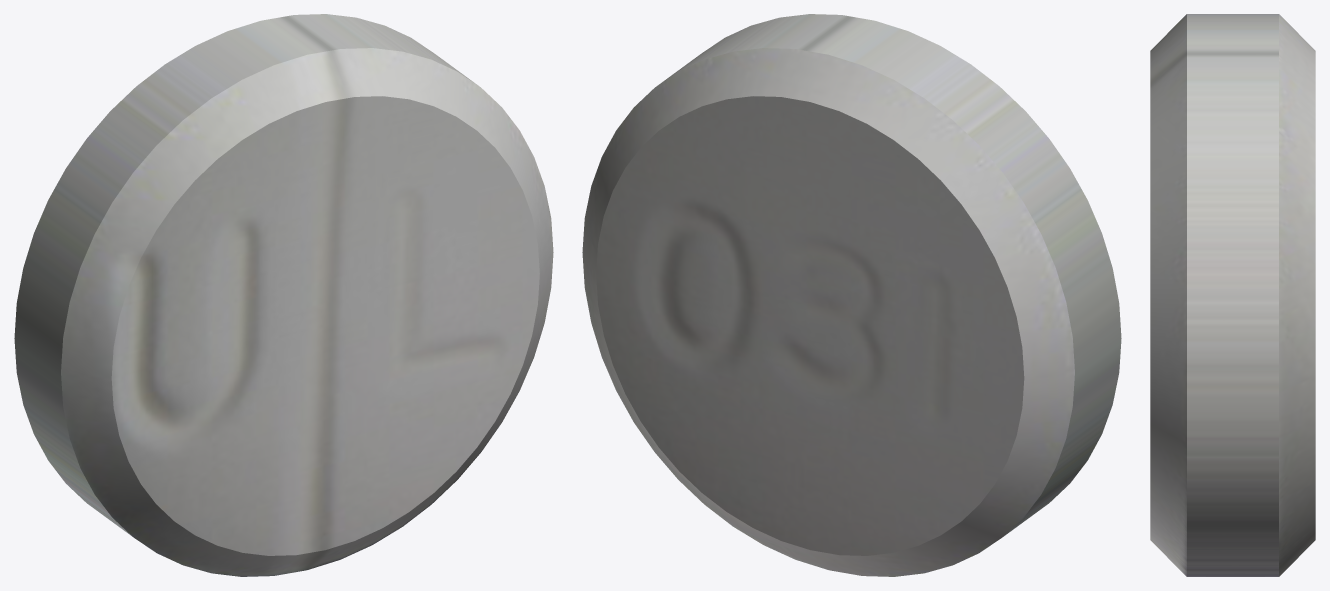
The model's file is 20140311GOPHDRGPT01623.fbx.
3 views of the same model, side by side, from view 1: azimuth 30°, elevation 25°; view 2: azimuth 150°, elevation 25°; view 3: azimuth 270°, elevation 25° (orthographic).
Visible parts, largest first — view 1: BezierCircle; view 2: BezierCircle; view 3: BezierCircle.
Boxes of the visible parts, x1=… form: BezierCircle: x1=14, y1=14, x2=553, y2=576; BezierCircle: x1=582, y1=14, x2=1121, y2=576; BezierCircle: x1=1150, y1=14, x2=1315, y2=576.
Size of the model in its own units: 1.01 by 1.01 by 0.296.
